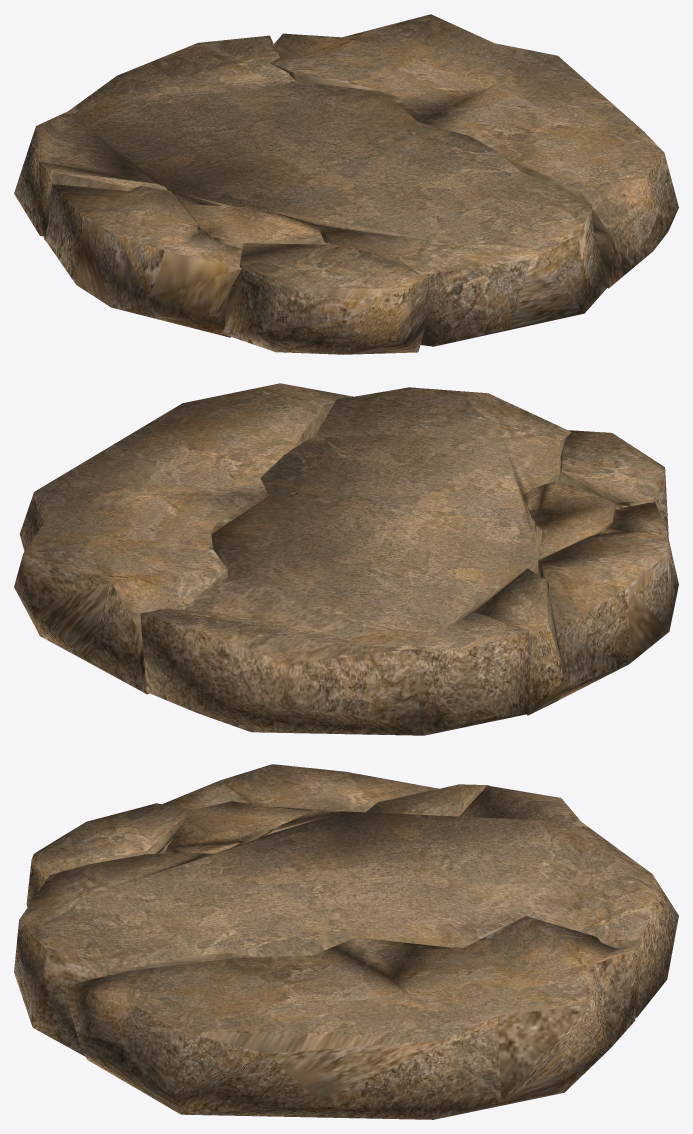
The model's file is stepping_stone.glb.
The picture shows the model from 3 angles, top to bottom: view 1: azimuth 30°, elevation 25°; view 2: azimuth 150°, elevation 25°; view 3: azimuth 270°, elevation 25°; orthographic projection. The views are drawn at different scales.
Parts seen in each view (by area): view 1: tripo_73ae1380_c585_4839_bec0_ef2d4ee9235f; view 2: tripo_73ae1380_c585_4839_bec0_ef2d4ee9235f; view 3: tripo_73ae1380_c585_4839_bec0_ef2d4ee9235f.
Boxes of the visible parts, x1,y1,x2,y2 form: tripo_73ae1380_c585_4839_bec0_ef2d4ee9235f: (14,14,678,354); tripo_73ae1380_c585_4839_bec0_ef2d4ee9235f: (14,383,678,735); tripo_73ae1380_c585_4839_bec0_ef2d4ee9235f: (14,764,678,1119).
Bounding box in the file's own units: 0.6928 × 0.116 × 0.7.
Materials: 1 (1 with a texture image).
